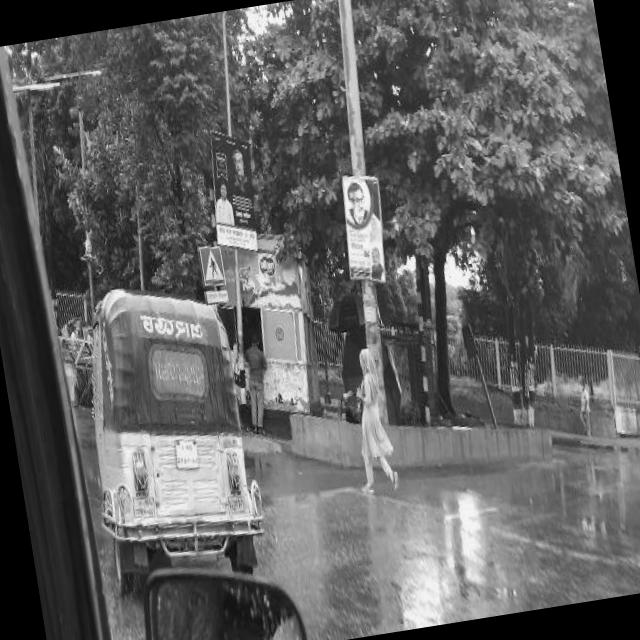motorcycle: (66, 264, 275, 598)
